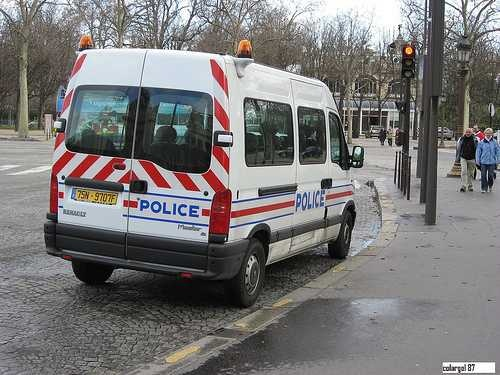Police Car: (35, 23, 429, 297)
